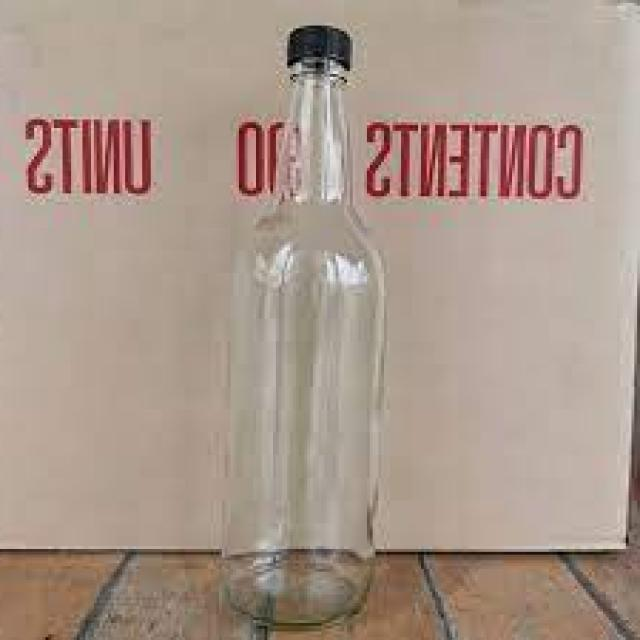glass: (216, 24, 385, 634)
